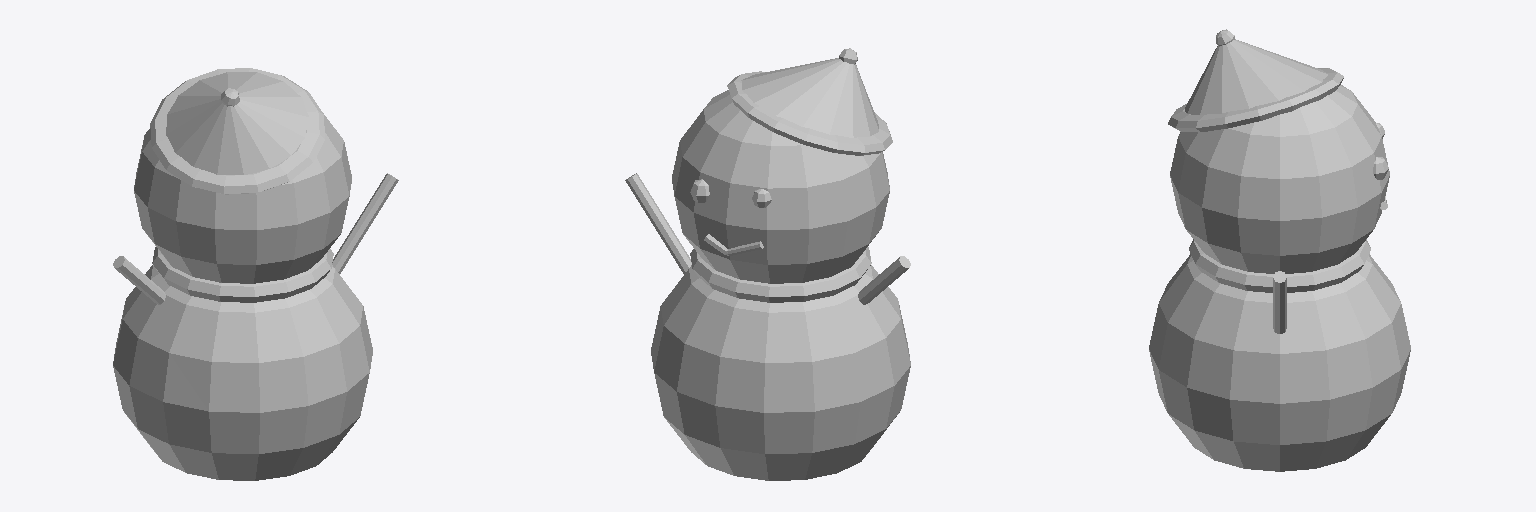
The model's file is snowman.obj.
The picture shows the model from 3 angles: view 1: azimuth 30°, elevation 25°; view 2: azimuth 150°, elevation 25°; view 3: azimuth 270°, elevation 25°; orthographic projection.
Visible parts, largest first — view 1: 球.001; view 2: 球.001; view 3: 球.001.
Part boxes in pixels (bbox=[...]): 球.001: bbox=[113, 68, 398, 480]; 球.001: bbox=[625, 48, 910, 480]; 球.001: bbox=[1149, 29, 1410, 471].
Bounding box in the file's own units: 2.49 × 3.35 × 2.